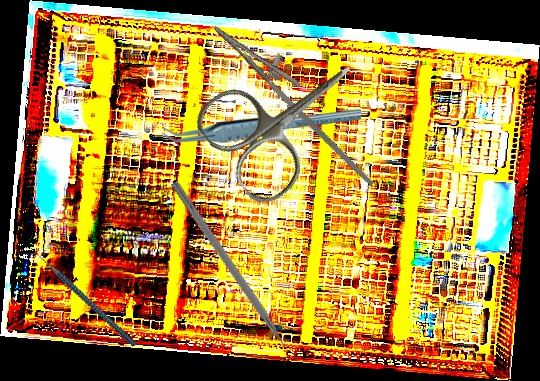Chopper: (160, 179, 298, 370), (24, 227, 137, 371)
Iris Scissors: (188, 21, 387, 212)
Needle Holder: (196, 12, 401, 187)
Tissue Forceps: (162, 108, 361, 144)
